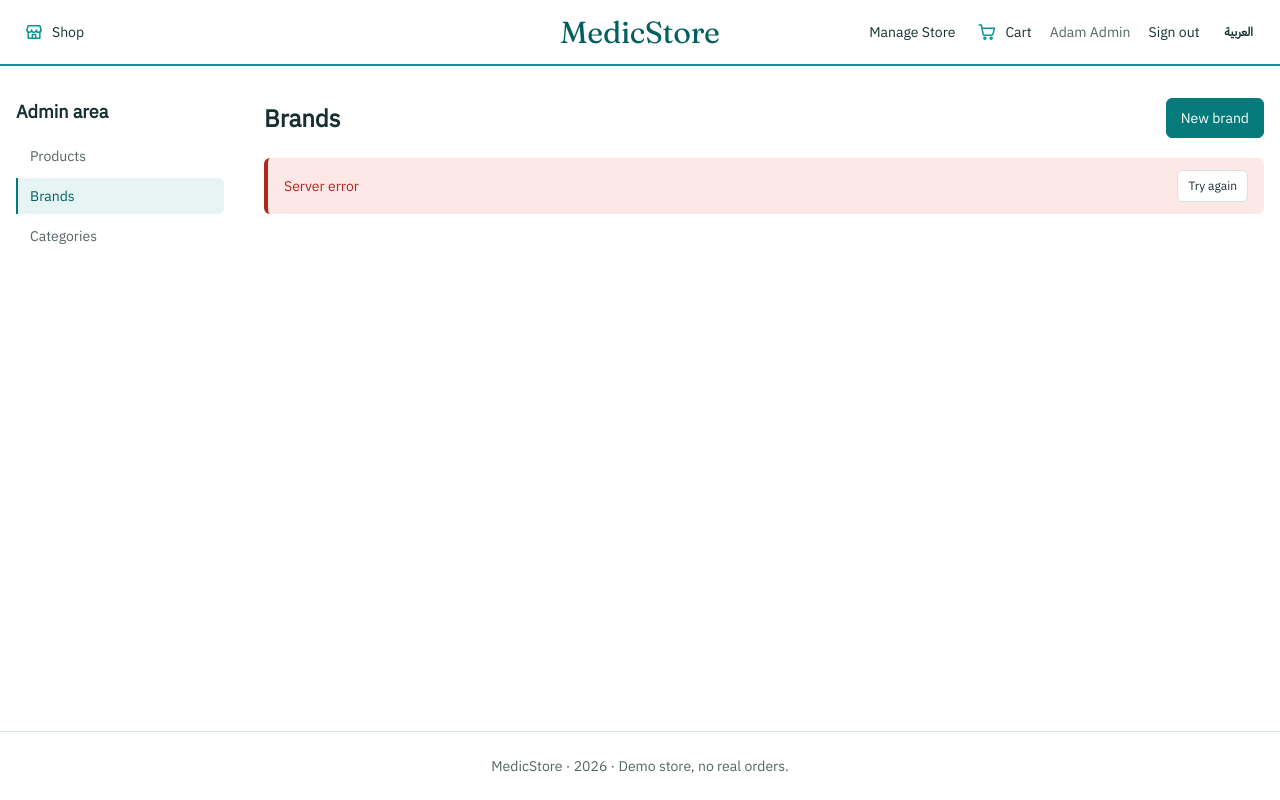
Test: shows an empty state, and an error state that can retry
The image size is (1280, 800).
expect the message shows "Server error": met, box top-left (284, 177), bottom-right (359, 195)
Step 1. Click the button "Try again" → (1213, 186), box top-left (1177, 170), bottom-right (1248, 202)
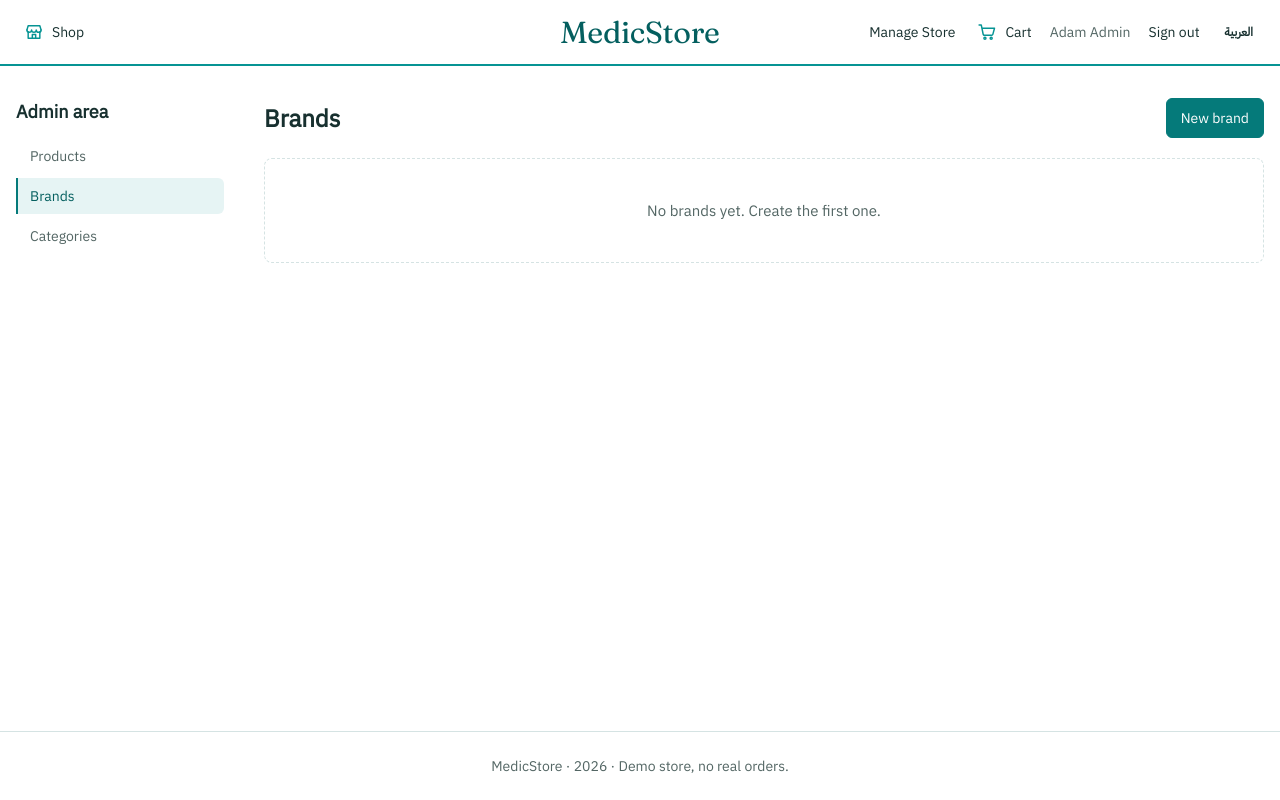
expect the text "No brands yet. Create the first one." is shown: met, box top-left (264, 158), bottom-right (1264, 263)
